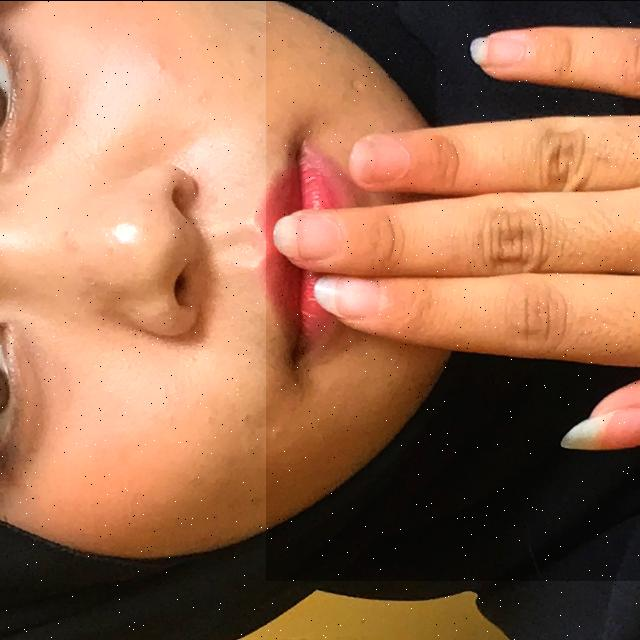ganteng: (266, 0, 640, 580)
